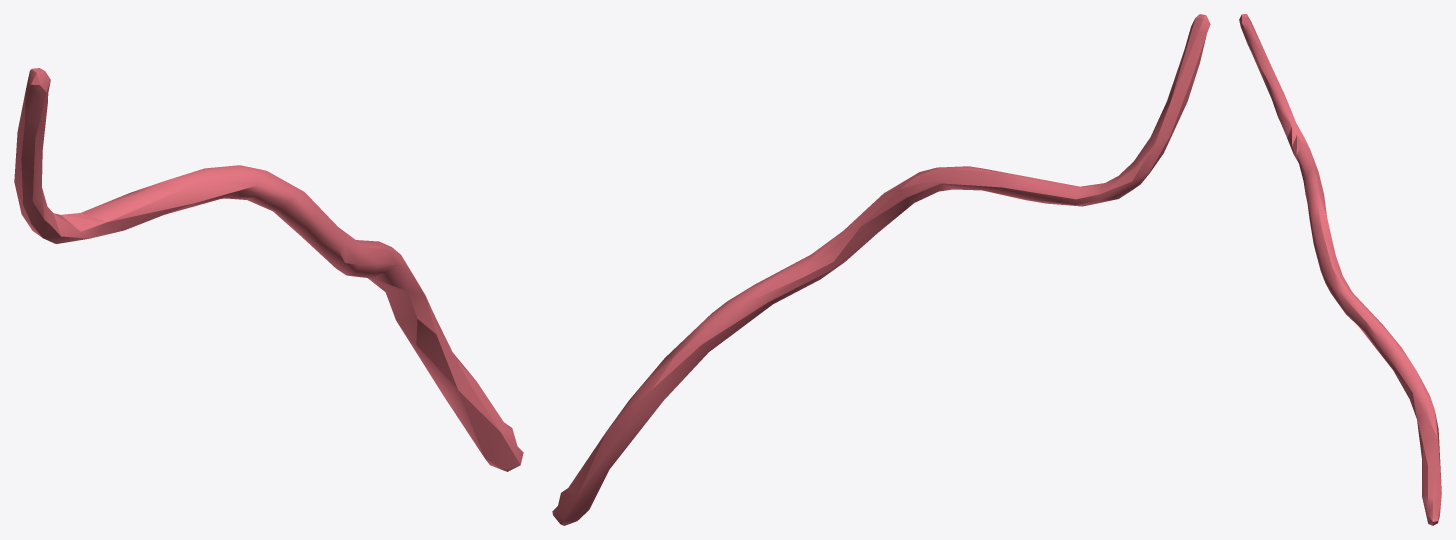
File: fma51393_fj5062.glb
3 renders of one model, left to right at view 1: azimuth 30°, elevation 25°; view 2: azimuth 150°, elevation 25°; view 3: azimuth 270°, elevation 25°, orthographic. The views are drawn at different scales.
Parts seen in each view (by area): view 1: FMA51393_FJ5062; view 2: FMA51393_FJ5062; view 3: FMA51393_FJ5062.
Boxes of the visible parts, x1,y1,x2,y2 form: FMA51393_FJ5062: [14, 68, 523, 471]; FMA51393_FJ5062: [552, 14, 1210, 525]; FMA51393_FJ5062: [1239, 14, 1441, 525].
Size of the model in its own units: 0.0157 by 0.0154 by 0.00806.
